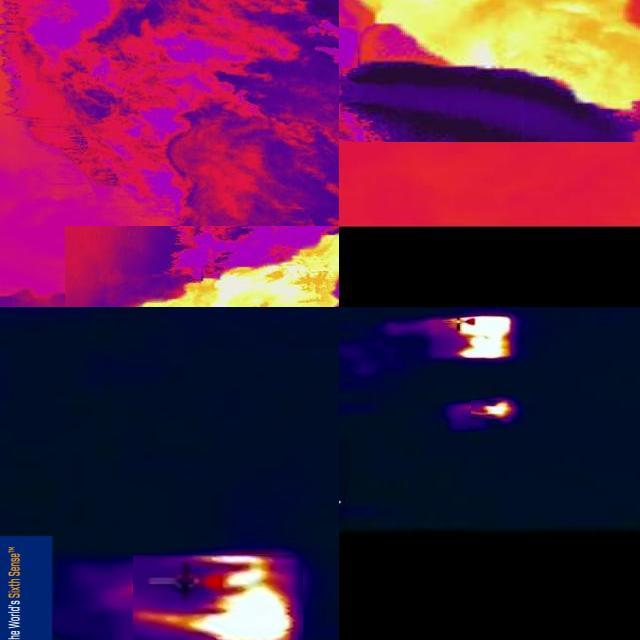fire: (340, 1, 640, 110), (142, 238, 340, 308), (192, 552, 304, 640), (442, 312, 516, 359), (472, 400, 516, 419)
